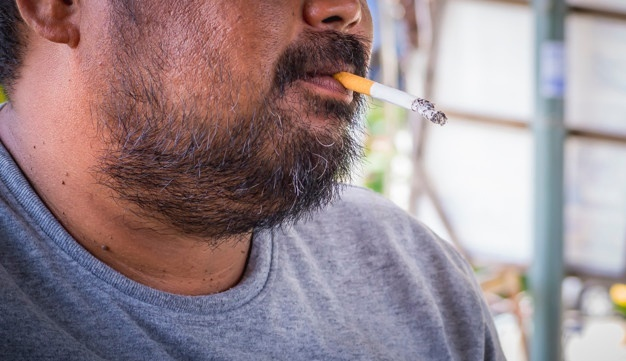sigaretta: (330, 69, 444, 123)
